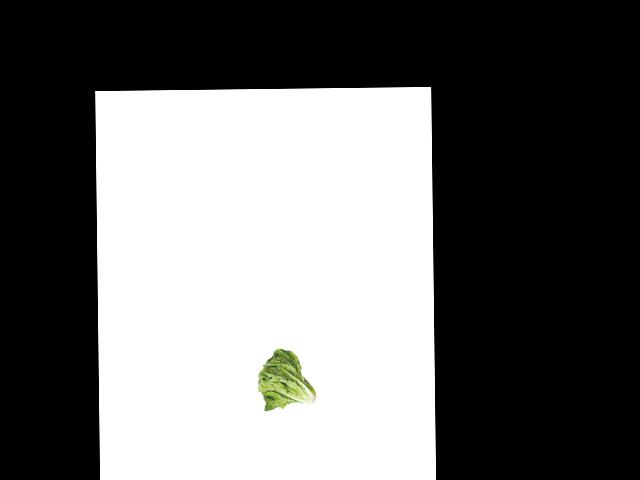lettuce: (255, 347, 319, 412)
